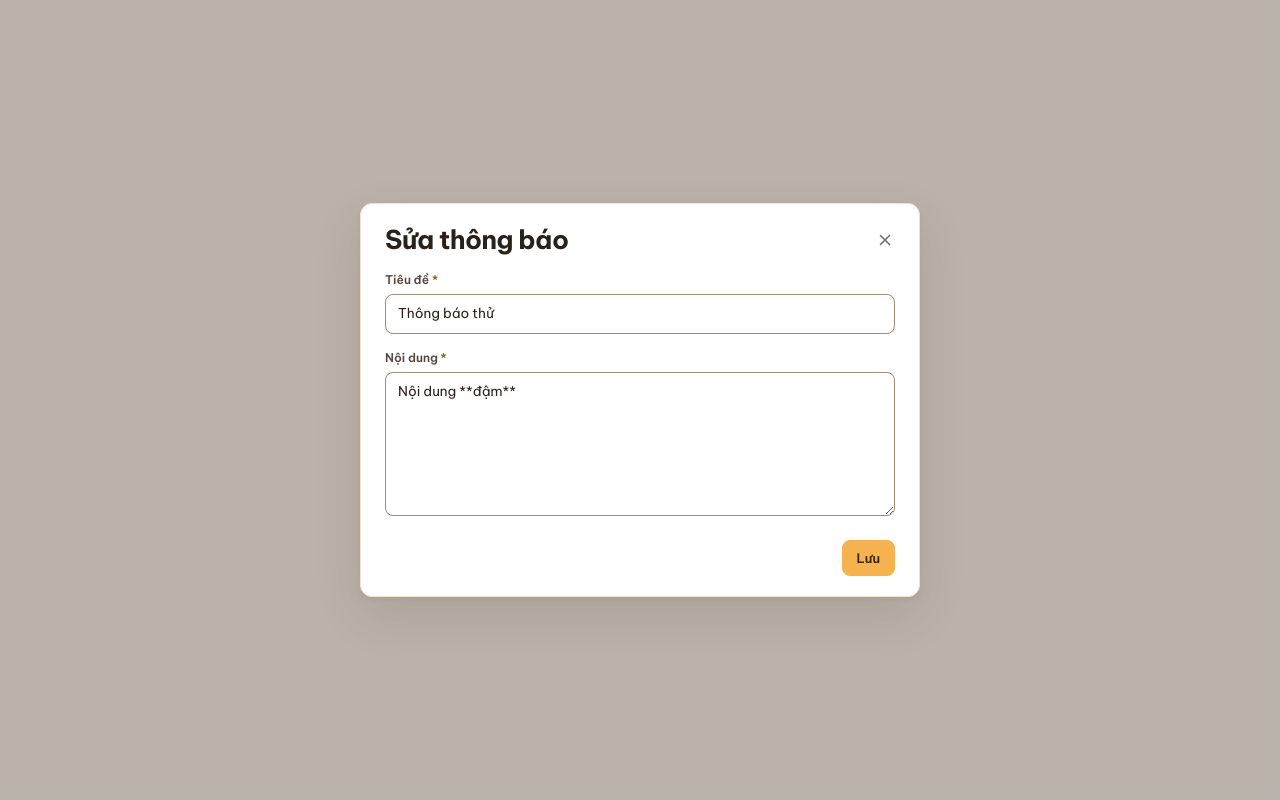
Test case: edit conflict preserves entered content and asks to reload
Click the button with test id "announcement-edit-save" at coordinates (868, 558), box [842,540,895,576]
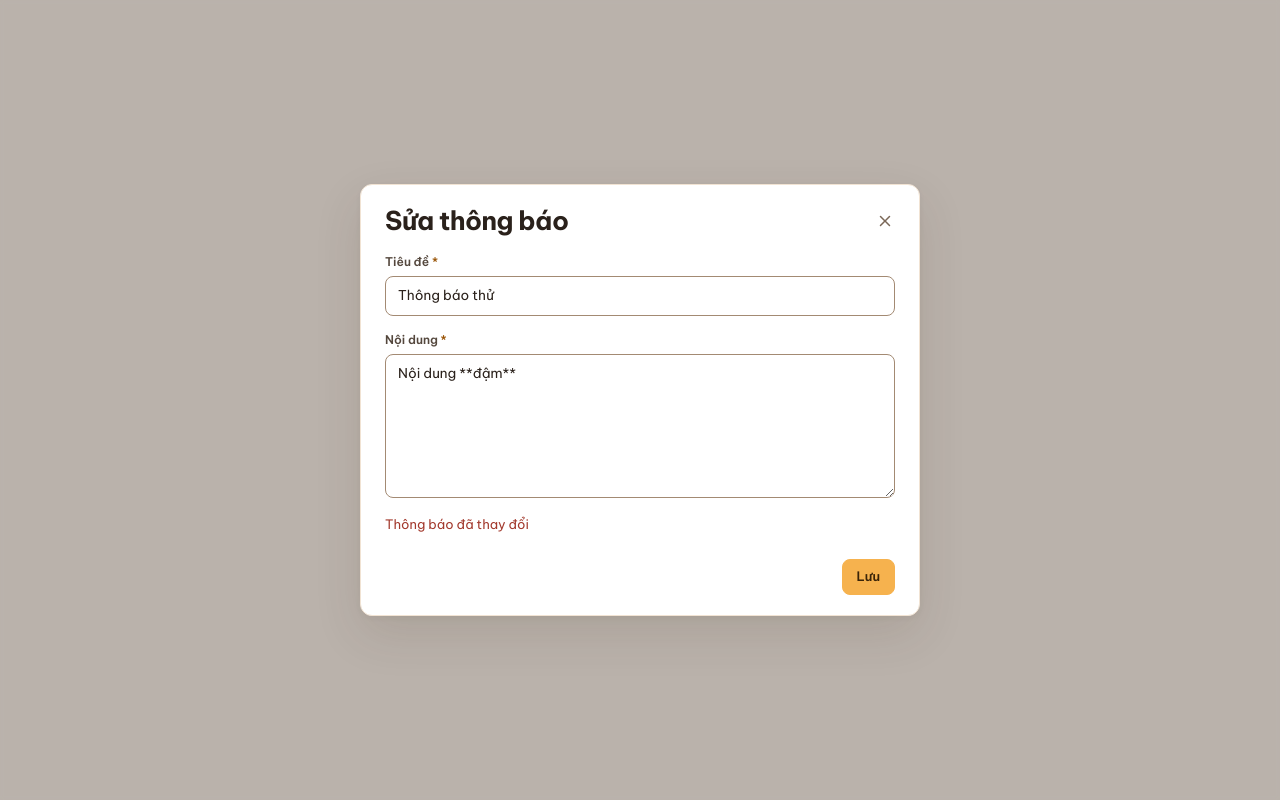
Expected: the field with test id "announcement-edit-title" holds "Thông báo thử", [398,285,882,307]
Now the message reads "Thông báo đã thay đổi", box [385,516,529,532]
